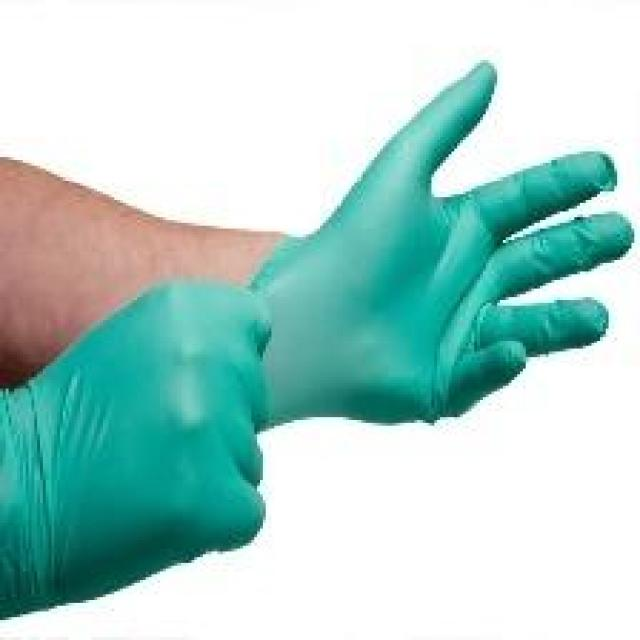Glove: (0, 63, 640, 640)
